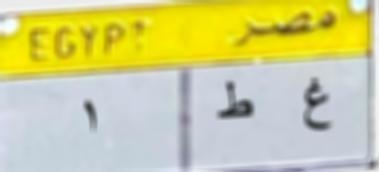1: (80, 93, 103, 135)
Taa: (210, 78, 258, 127)
ghayn: (294, 70, 334, 140)
